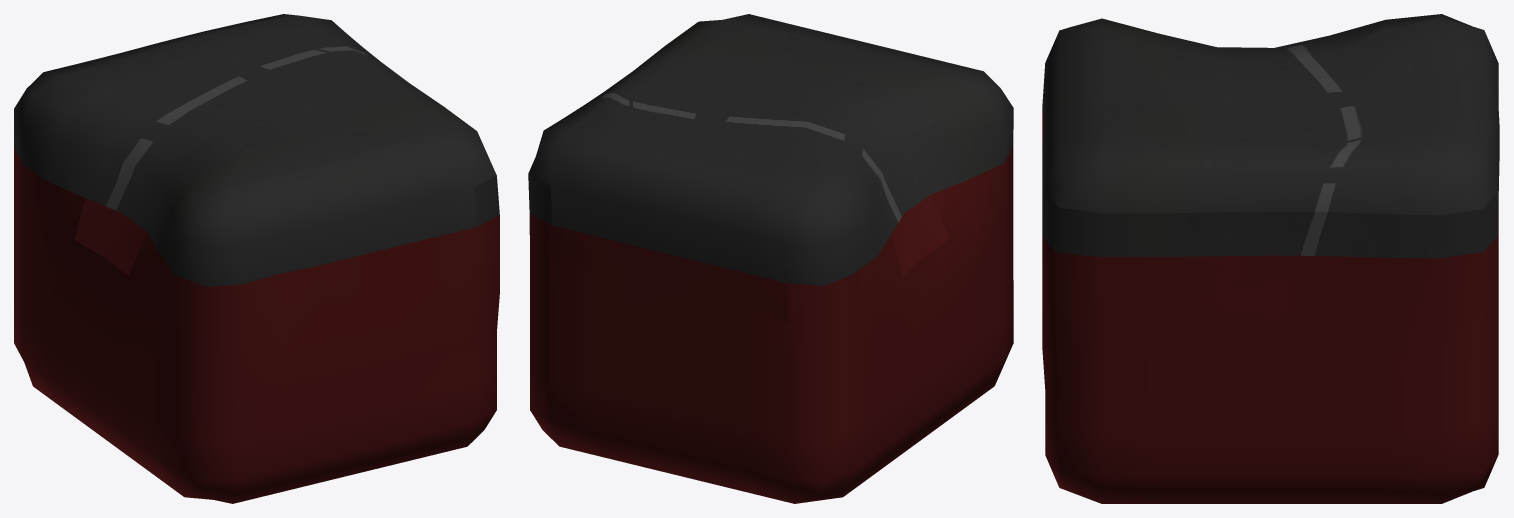
The model's file is RuinedGround_Block.fbx.
The picture shows the model from 3 angles, left to right: view 1: azimuth 30°, elevation 25°; view 2: azimuth 150°, elevation 25°; view 3: azimuth 270°, elevation 25°; orthographic projection. The views are drawn at different scales.
Parts seen in each view (by area): view 1: Box014; view 2: Box014; view 3: Box014.
Part boxes in pixels (bbox=[...]): Box014: bbox=[14, 14, 499, 503]; Box014: bbox=[528, 14, 1013, 503]; Box014: bbox=[1042, 14, 1499, 503].
Size of the model in its own units: 20.17 by 18.99 by 22.43.
